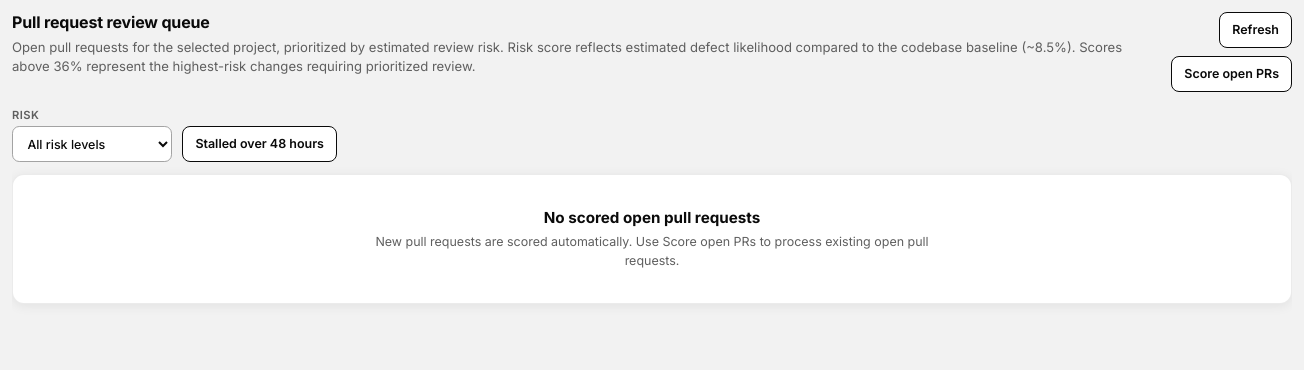
Test: ProjectPullRequestRiskSection › allows only Managers to queue scoring for existing open pull requests
Click the button "Score open PRs" at (1232, 74), box [1171,56,1292,92]
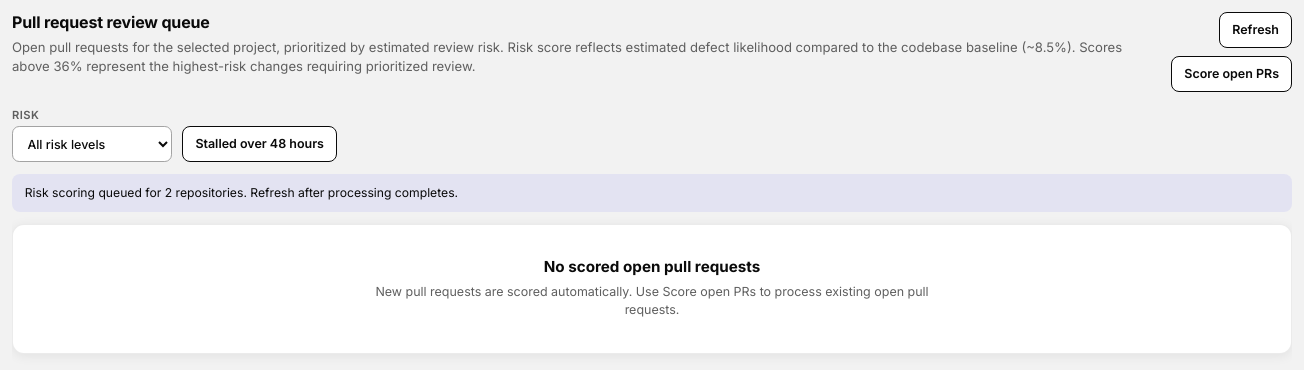
Expected: the message shows "Risk scoring queued for 2 repositories", [25,185,458,200]
